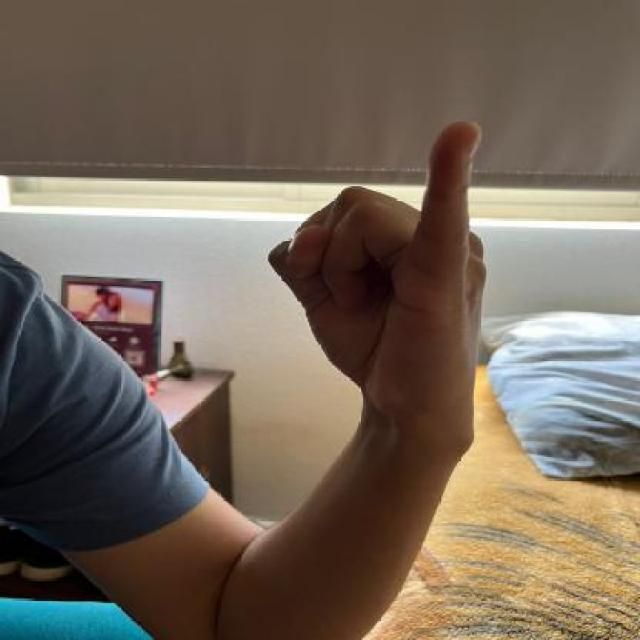I: (267, 108, 488, 440)
